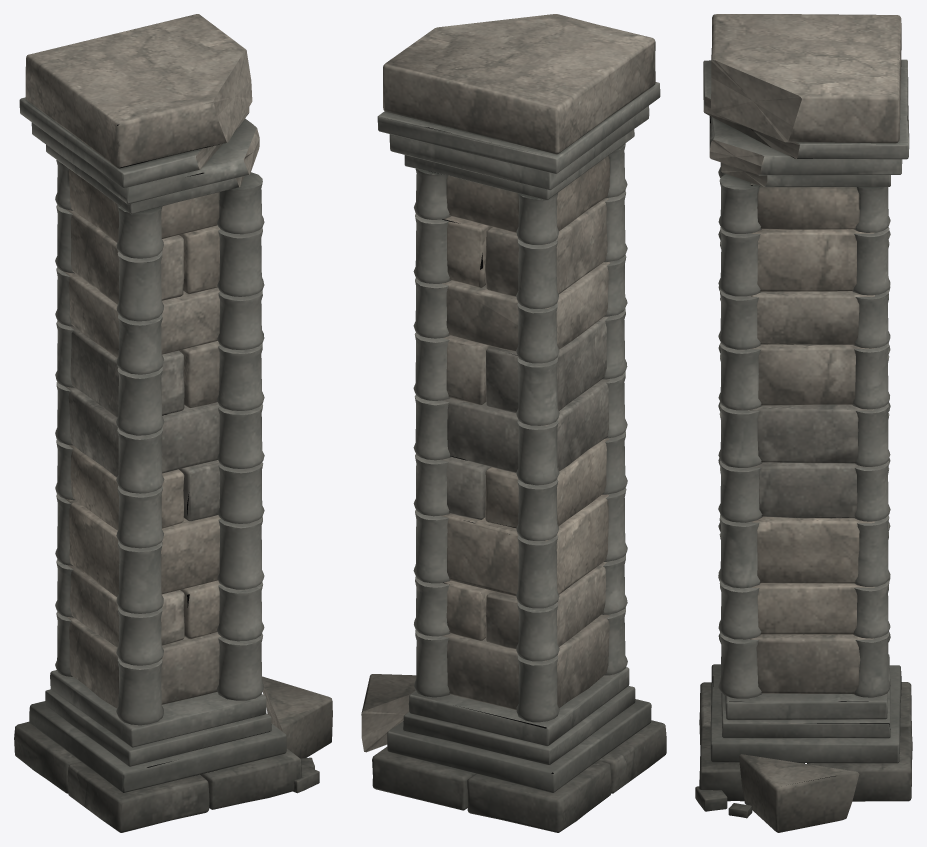
The model's file is masonry-pier.glb.
3 views of the same model, side by side, from view 1: azimuth 30°, elevation 25°; view 2: azimuth 150°, elevation 25°; view 3: azimuth 270°, elevation 25° (orthographic). The views are drawn at different scales.
Visible parts, largest first — view 1: WornPier_Review.004; view 2: WornPier_Review.004; view 3: WornPier_Review.004.
Boxes of the visible parts, bbox=[...] form: WornPier_Review.004: bbox=[14, 14, 332, 832]; WornPier_Review.004: bbox=[361, 14, 666, 832]; WornPier_Review.004: bbox=[695, 14, 912, 832].
Size of the model in its own units: 1.69 by 4.52 by 1.26.
Materials: 1 (1 with a texture image).
